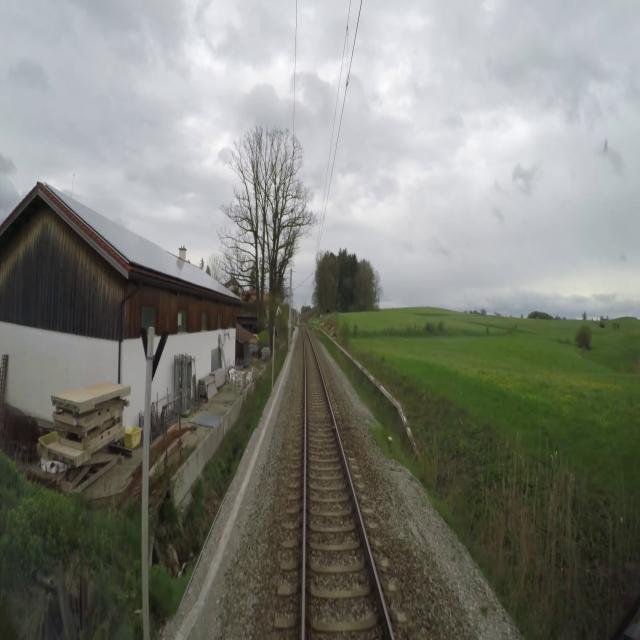rail-track: (303, 327, 390, 639)
